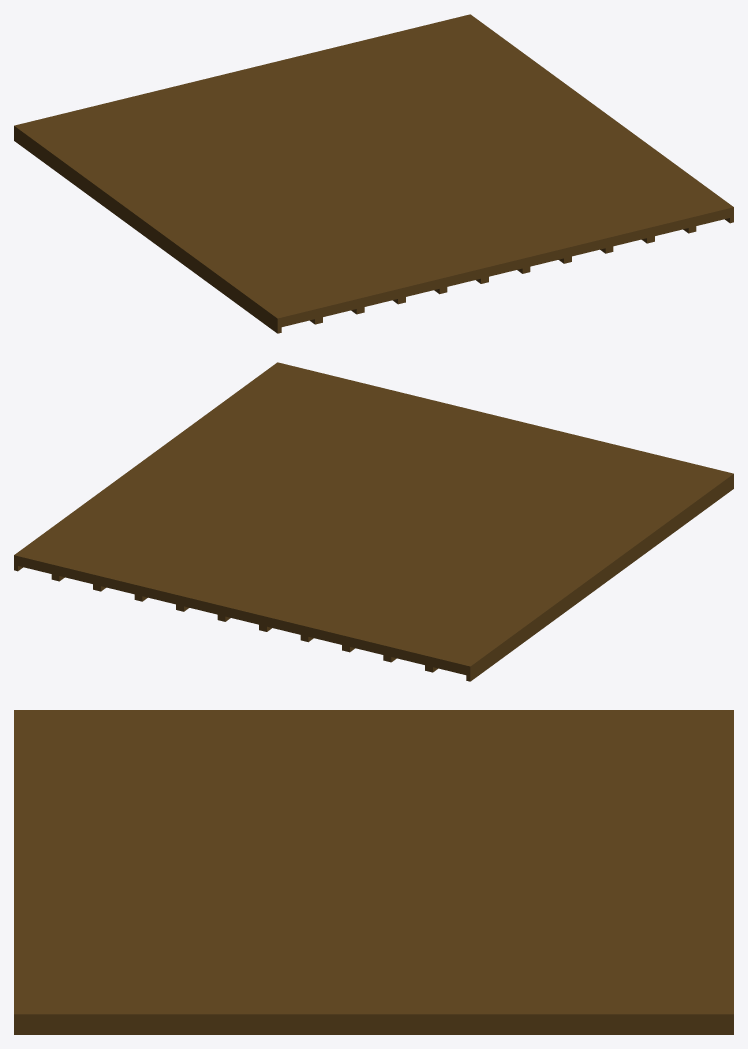
Rendered from selectCeiling.obj.
3 views of the same model, one above another, from view 1: azimuth 30°, elevation 25°; view 2: azimuth 150°, elevation 25°; view 3: azimuth 270°, elevation 25° (orthographic). The views are drawn at different scales.
Parts seen in each view (by area): view 1: 立方体; view 2: 立方体; view 3: 立方体.
Boxes of the visible parts, <box> form: 立方体: <box>14,14,733,333</box>; 立方体: <box>14,362,733,681</box>; 立方体: <box>14,710,733,1034</box>.
Bounding box in the file's own units: 10.73 × 0.3424 × 10.73.
Materials: 1 (1 with a texture image).
